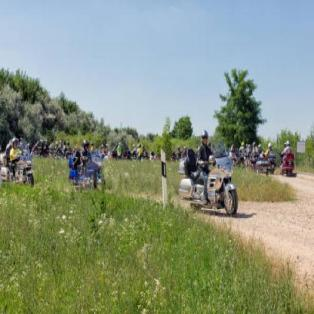Motocicleta: (177, 150, 242, 220)
